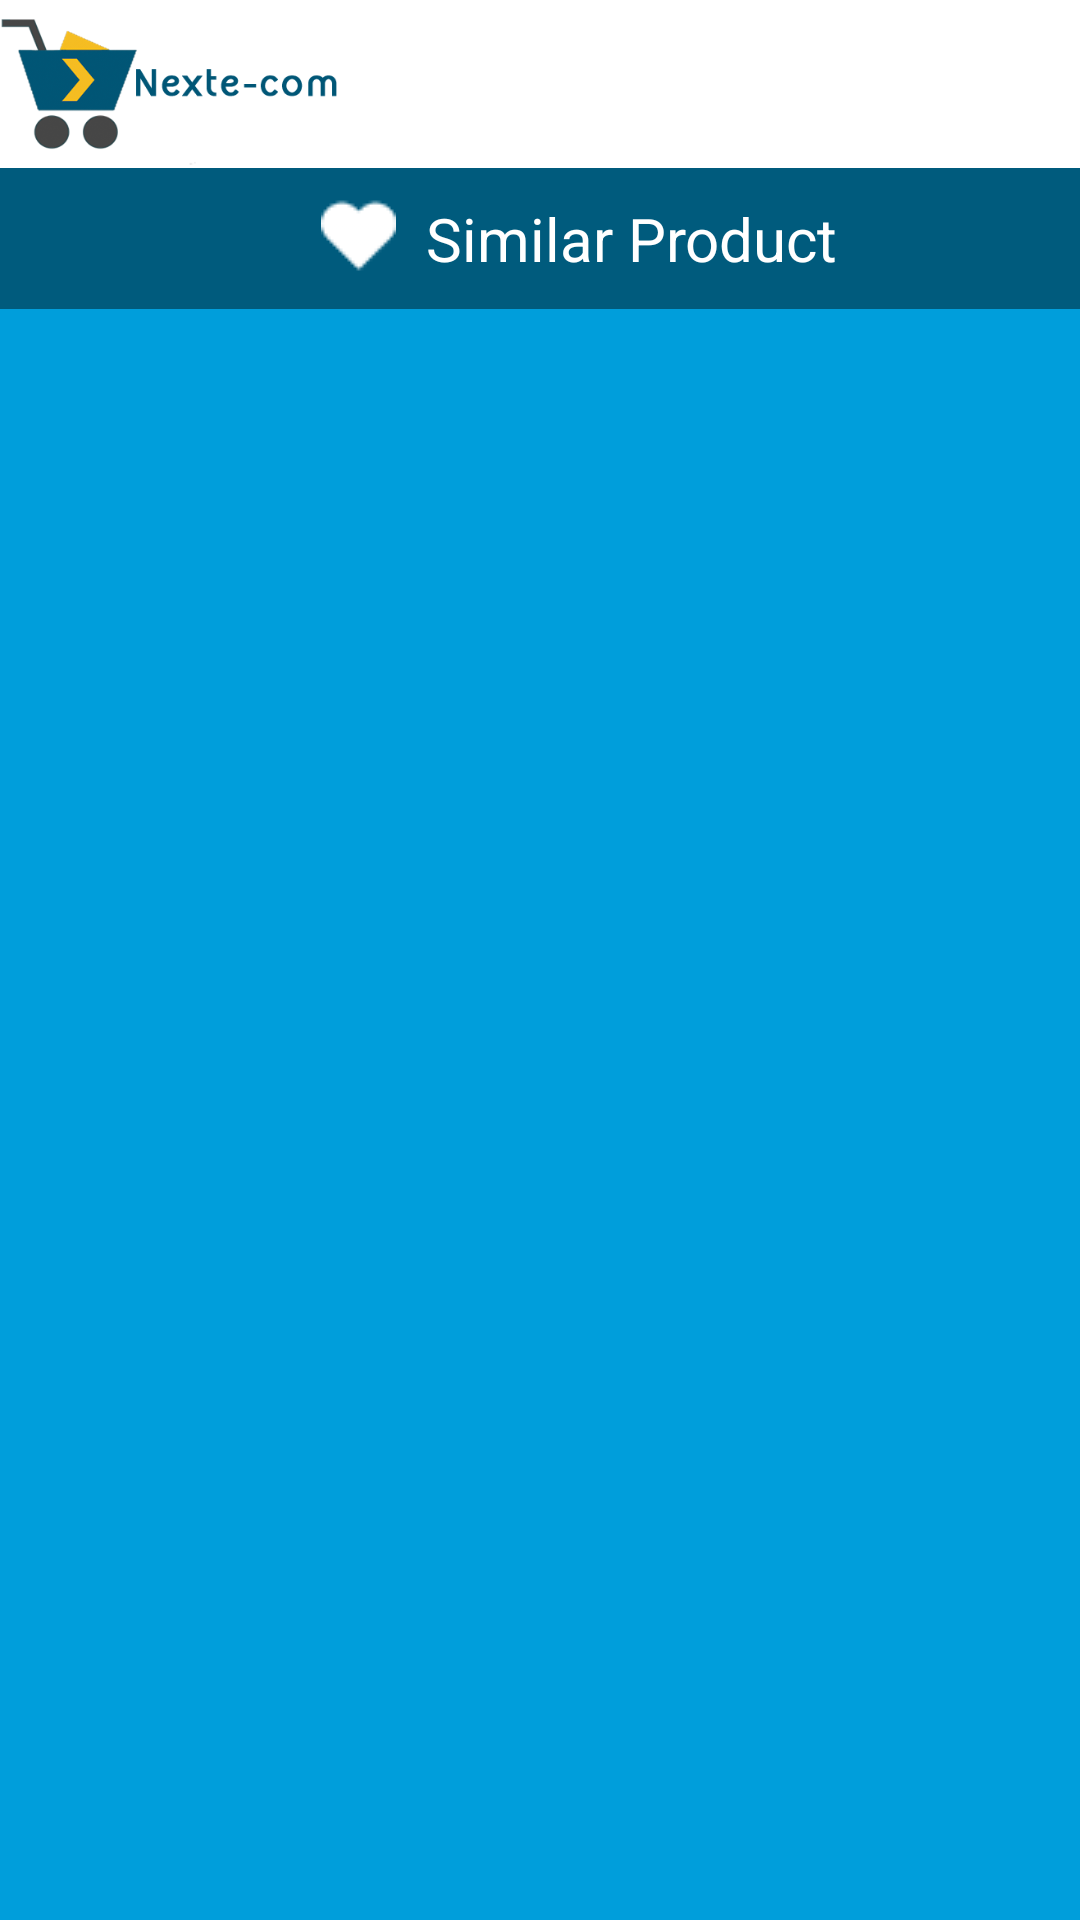

Icons on this 1080 × 1920 Android screen, each with its box as [left=x1, top=y1, right=x2, bottom=y2]:
fav: [left=321, top=200, right=396, bottom=271]
